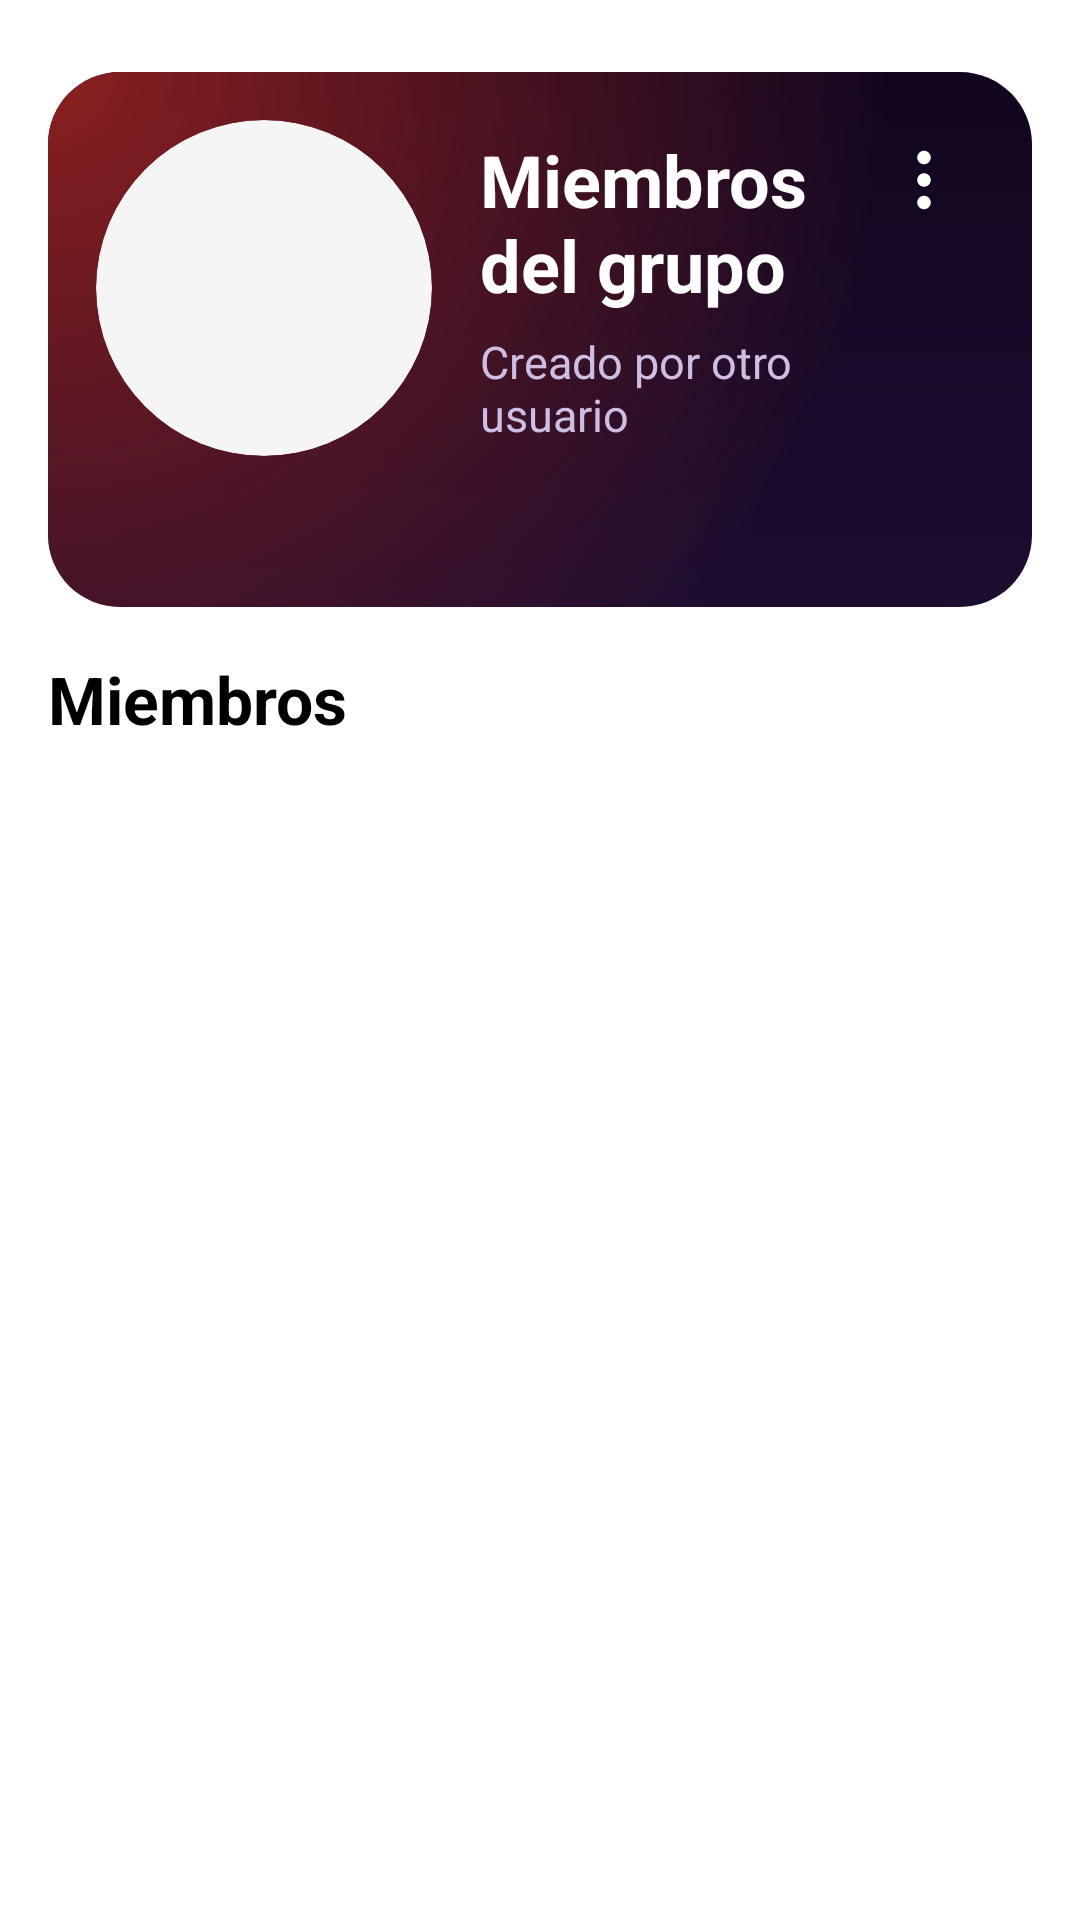

Locate icon controls on the screen. Image size 1080×1920, boxes as (x1, y1, x2, y2).
Opciones: (917, 150, 931, 210)
